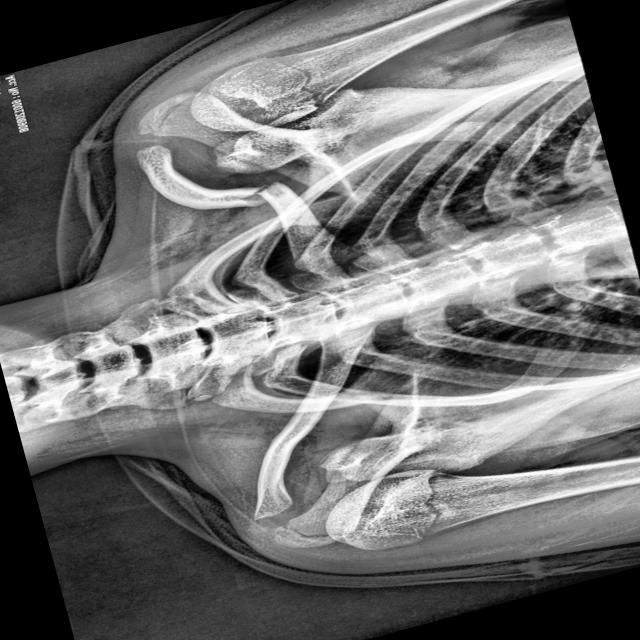Fracture: (212, 166, 304, 223)
